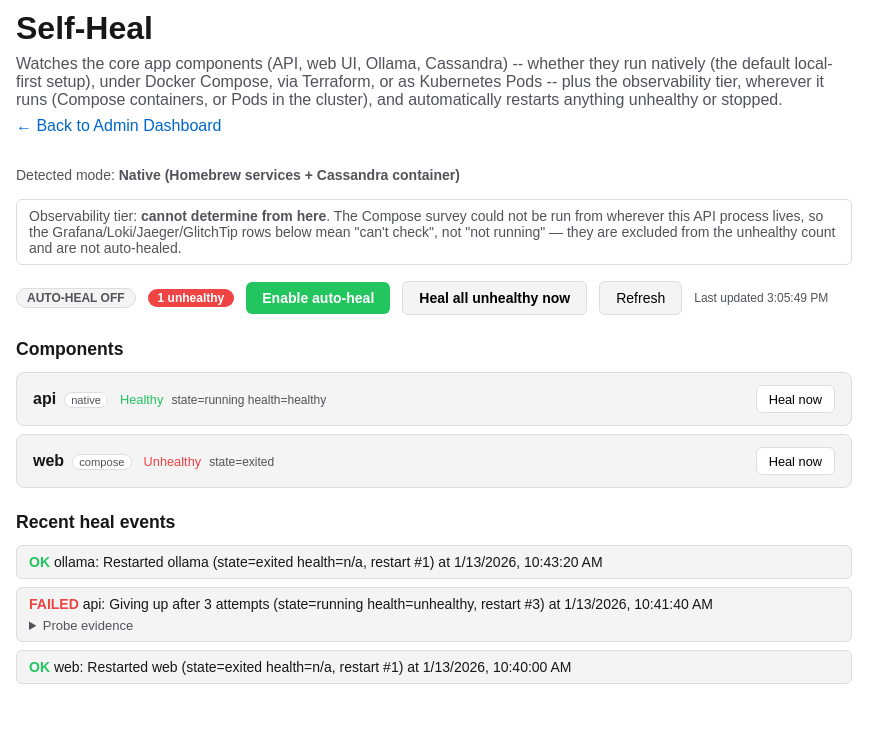
SelfHealPage › toggles auto-heal on and off
The image size is (869, 746).
Click the button "Enable auto-heal" at (318, 298), box [246,282,390,314]
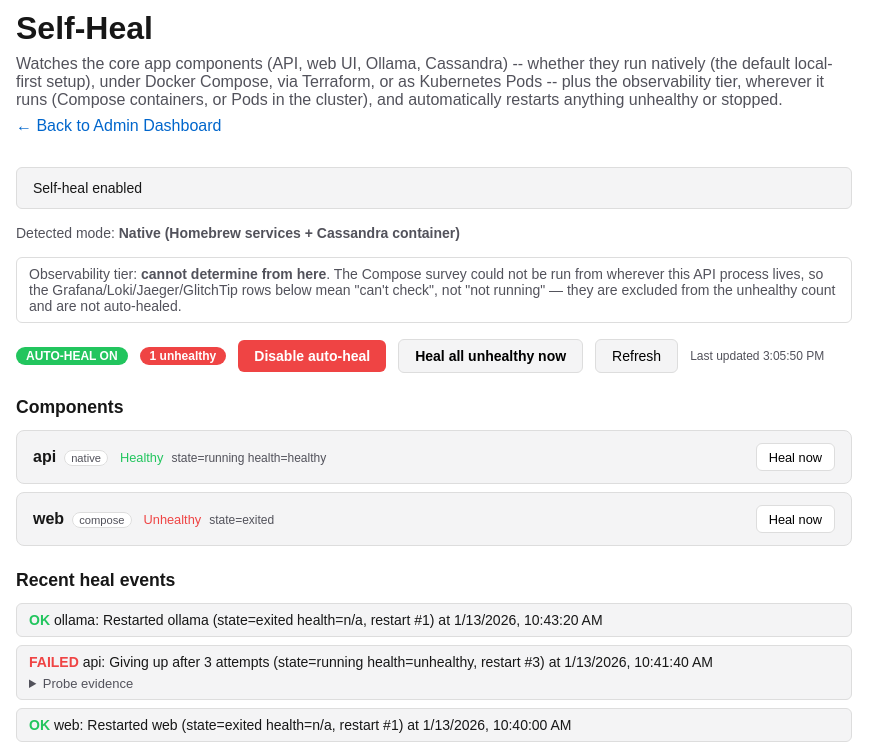
Result: the text "Self-heal enabled" is shown at [16,167,852,209]
Result: the text "AUTO-HEAL ON" is shown at [16,347,128,365]
Click the button "Disable auto-heal" at (312, 356), box [238,340,386,372]
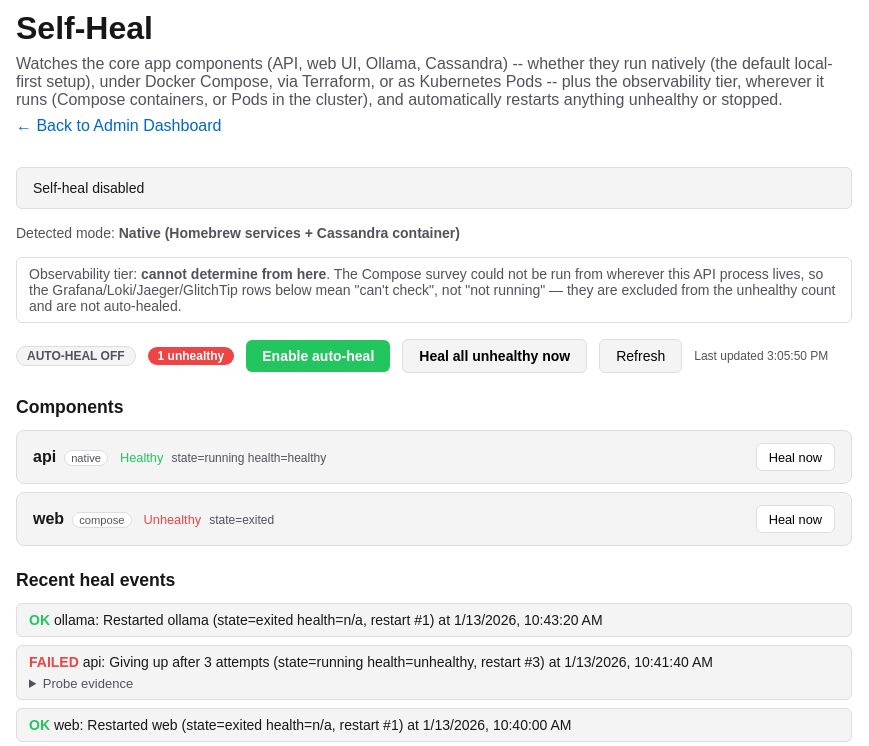
Result: the text "Self-heal disabled" is shown at [16,167,852,209]
